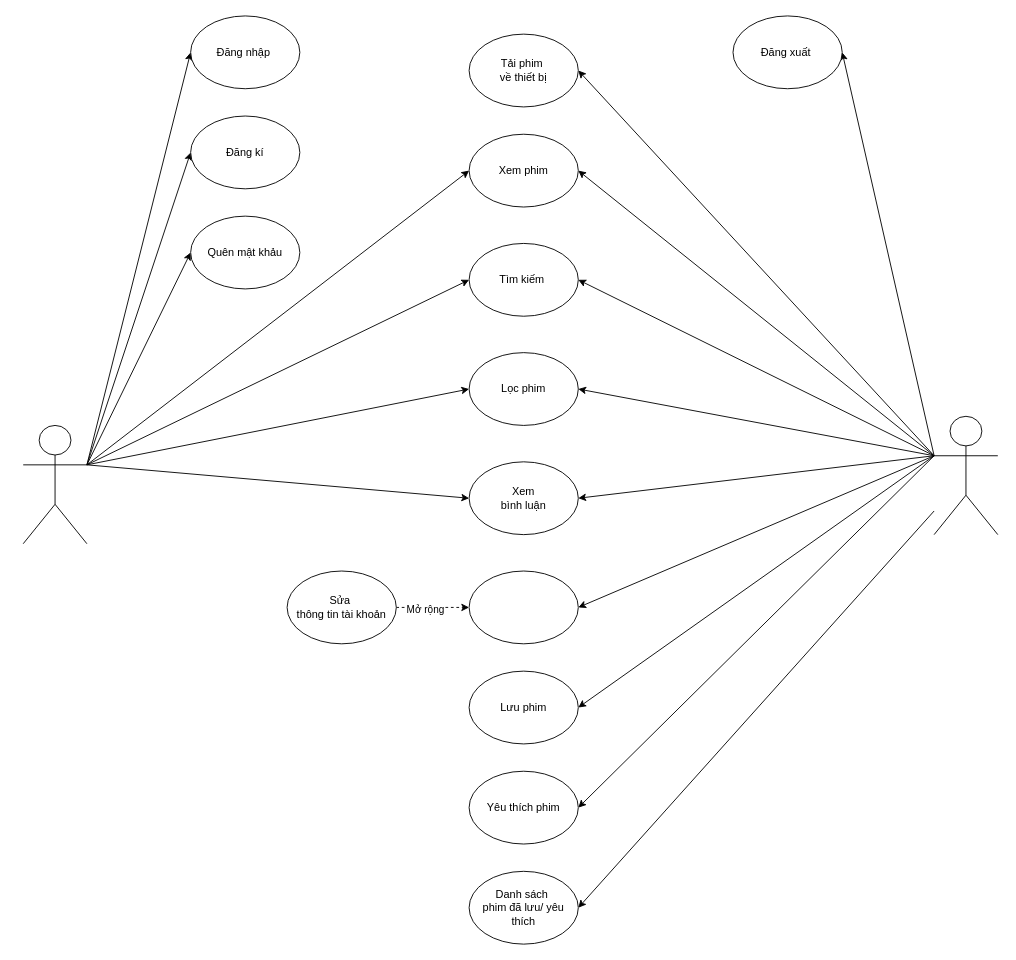
The diagram is 1016 pixels wide and 960 high, and some of its shapes have lost their labels. Each missing label, with the centre of its shape:
Authenticated User: [965,475]
Unauthenticated User: [54,484]
Đổi thông tin: [523,607]
